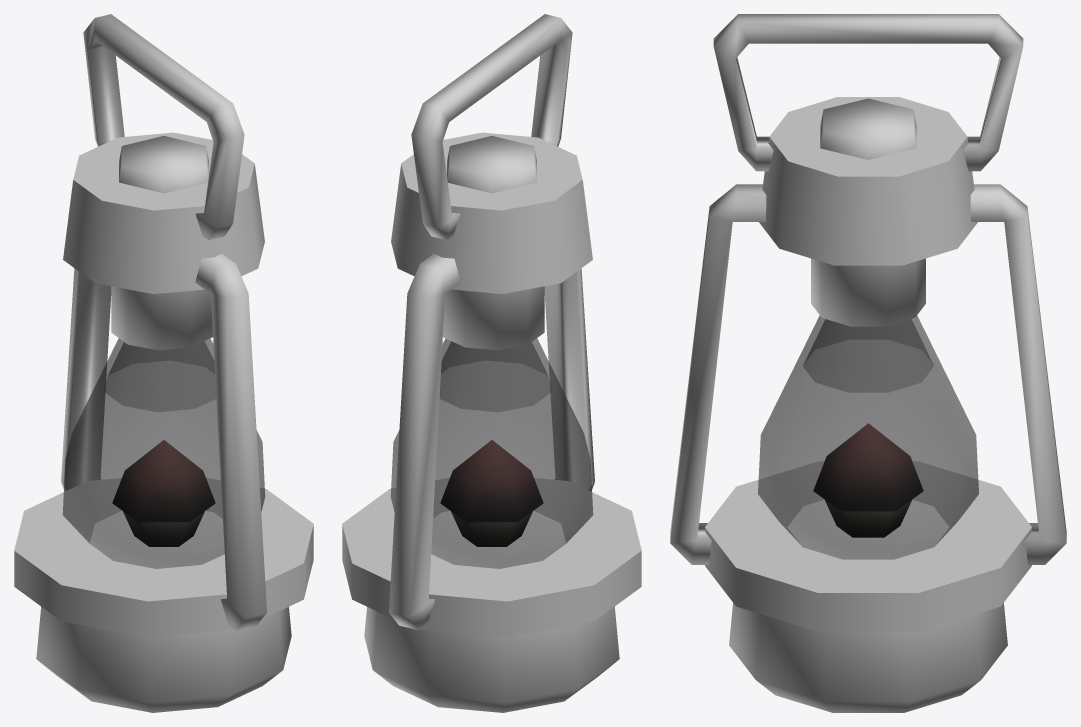
Rendered from TFF_Gas_Lamp_01A.fbx.
The picture shows the model from 3 angles, left to right: view 1: azimuth 30°, elevation 25°; view 2: azimuth 150°, elevation 25°; view 3: azimuth 270°, elevation 25°; orthographic projection. The views are drawn at different scales.
Parts seen in each view (by area): view 1: TFF_Gas_Lamp_01A, TFF_Gas_Lamp_01A_Light; view 2: TFF_Gas_Lamp_01A, TFF_Gas_Lamp_01A_Light; view 3: TFF_Gas_Lamp_01A, TFF_Gas_Lamp_01A_Light.
Part boxes in pixels (x1,y1,x2,y2): TFF_Gas_Lamp_01A: (14,14,313,712); TFF_Gas_Lamp_01A_Light: (112,440,215,546); TFF_Gas_Lamp_01A: (342,14,641,712); TFF_Gas_Lamp_01A_Light: (440,440,543,546); TFF_Gas_Lamp_01A: (670,14,1066,712); TFF_Gas_Lamp_01A_Light: (813,423,923,537).
Size of the model in its own units: 0.2245 by 0.5161 by 0.286.
